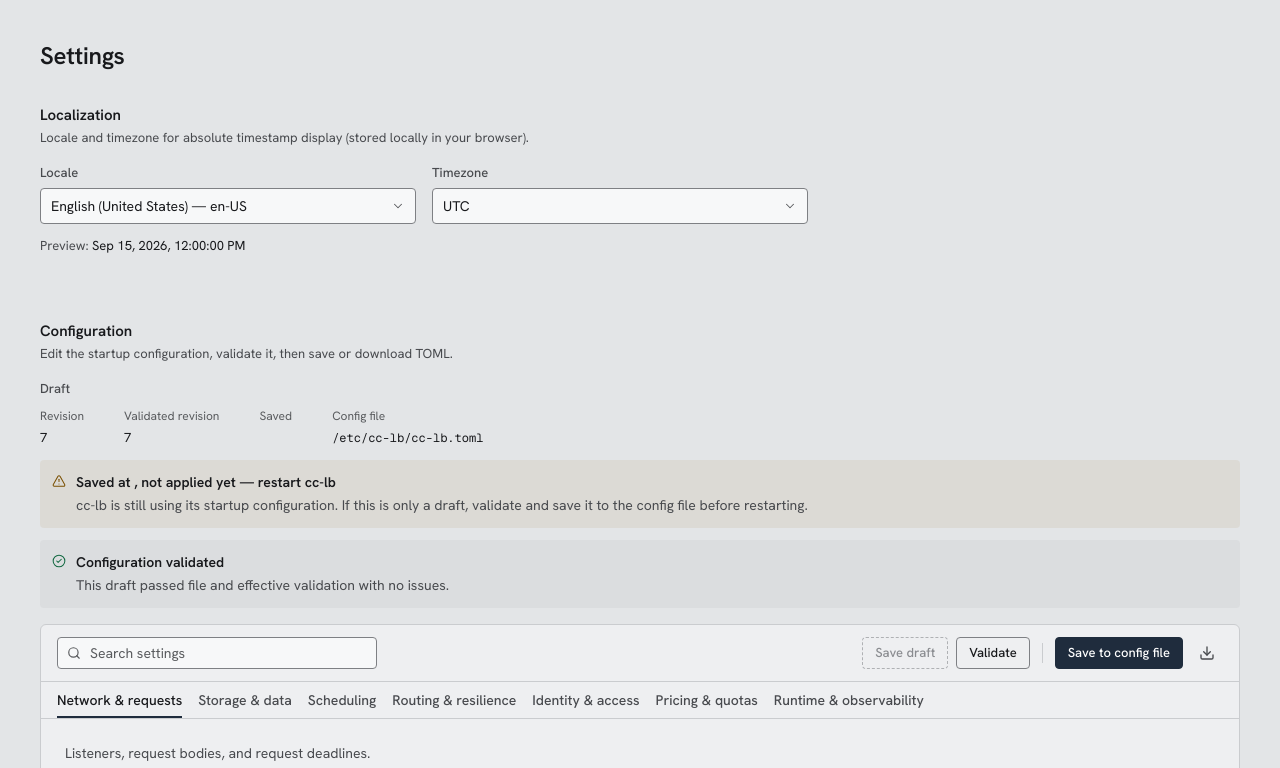
Test: admin providers render as divider-separated rows without nested boxes
This screenshot has width=1280, height=768.
Click the button "Identity & access" at (586, 700), box [532,682,640,718]
(page scrolled)
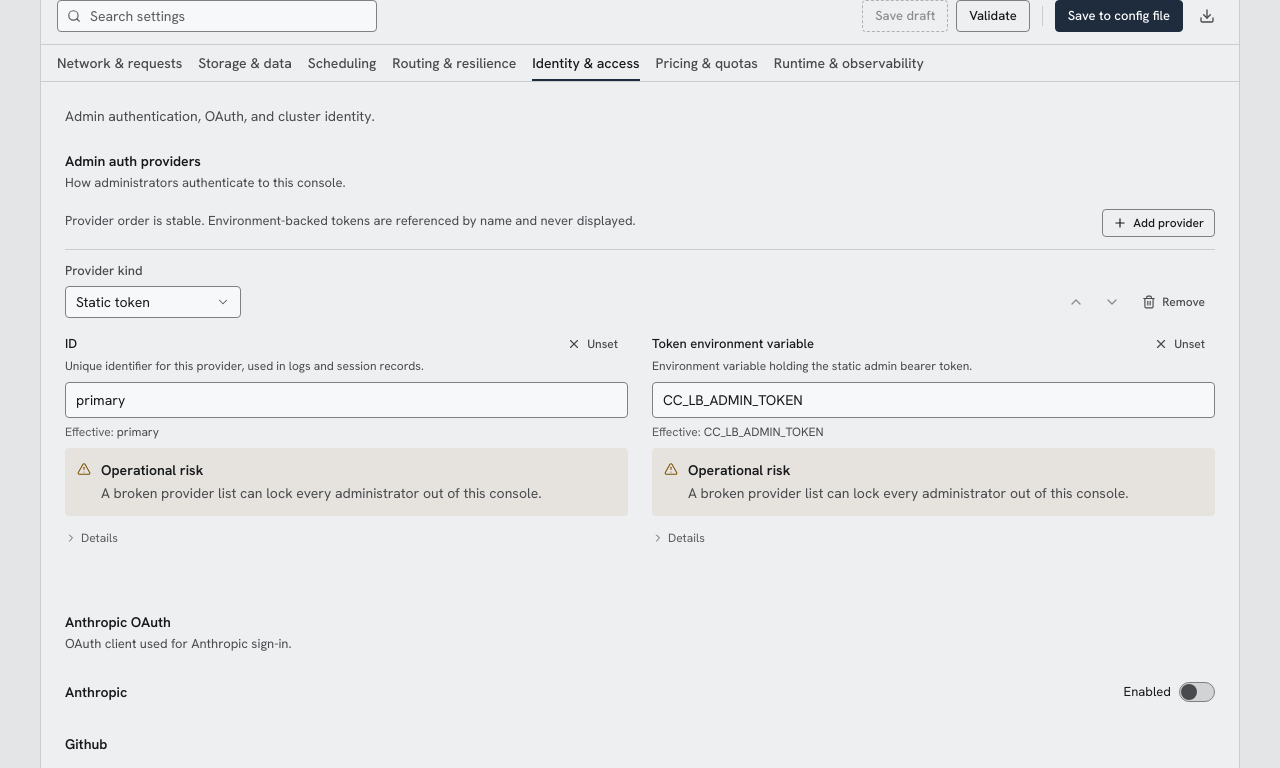
Result: the button "Add provider" is shown at [1102,209,1215,237]
Result: the text "Environment-backed tokens are referenced by name and never displayed." is shown at [65,212,636,229]
Result: the element that starts with "Provider kind" is shown at [65,250,1215,572]
Replace the text in the field labelled "ID" with "renamed" at (346, 400), box [65,382,628,418]
(page scrolled)
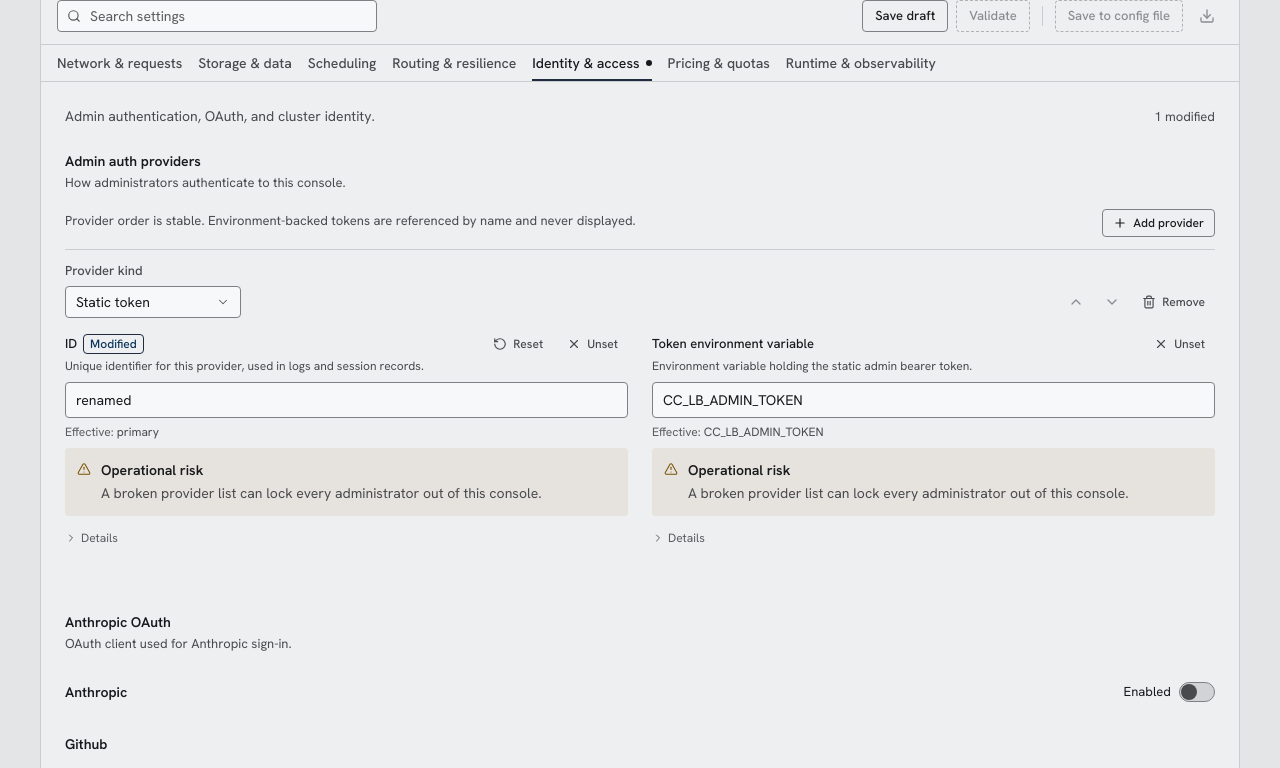
Result: the button "Reset" is shown at [483,330,553,358]
